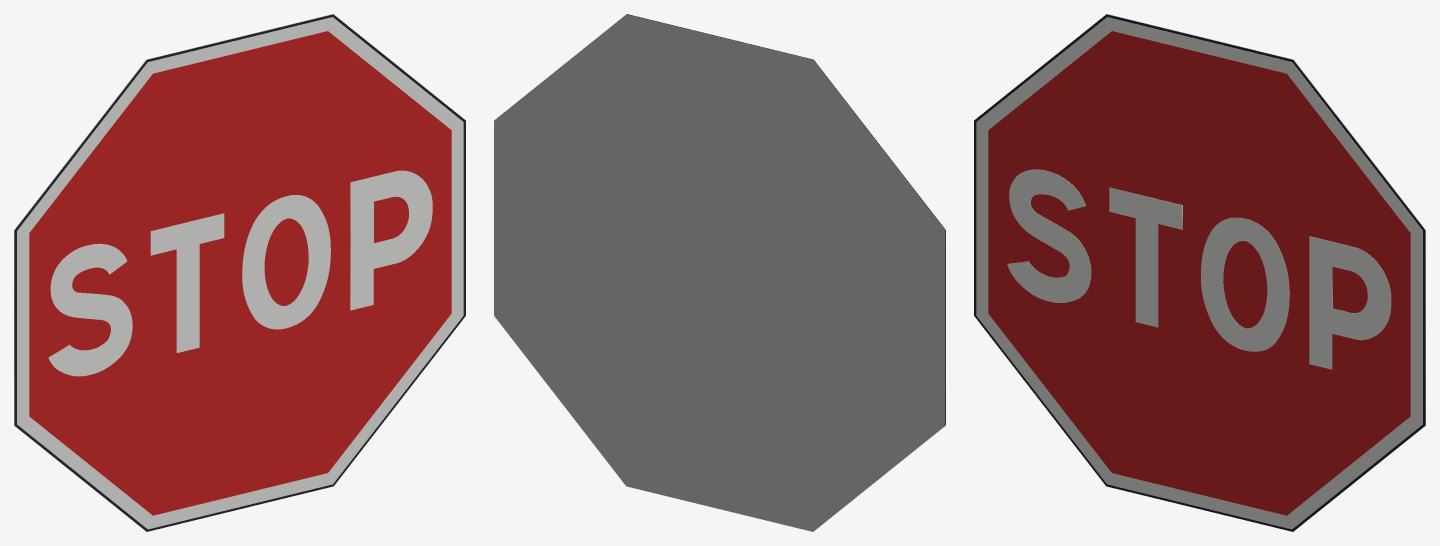
The picture shows the model from 3 angles, left to right: view 1: azimuth 30°, elevation 25°; view 2: azimuth 150°, elevation 25°; view 3: azimuth 330°, elevation 25°; orthographic projection.
Visible parts, largest first — view 1: AB4_p02, AB4_p03, AB4_p01, AB4_p00, AB4_dos; view 2: AB4_dos, AB4_p00; view 3: AB4_p02, AB4_p03, AB4_p01, AB4_p00, AB4_dos.
Part boxes in pixels (x1,y1,x2,y2): AB4_p02: (29, 31, 451, 515); AB4_p03: (48, 170, 432, 376); AB4_p01: (17, 17, 463, 529); AB4_p00: (14, 14, 465, 531); AB4_dos: (14, 14, 332, 425); AB4_dos: (494, 14, 945, 531); AB4_p00: (627, 14, 945, 425); AB4_p02: (988, 31, 1410, 515); AB4_p03: (1007, 169, 1391, 369); AB4_p01: (976, 17, 1422, 529); AB4_p00: (974, 14, 1425, 531); AB4_dos: (1107, 14, 1425, 425).
Size of the model in its own units: 0.8 by 0.7998 by 0.0031.
